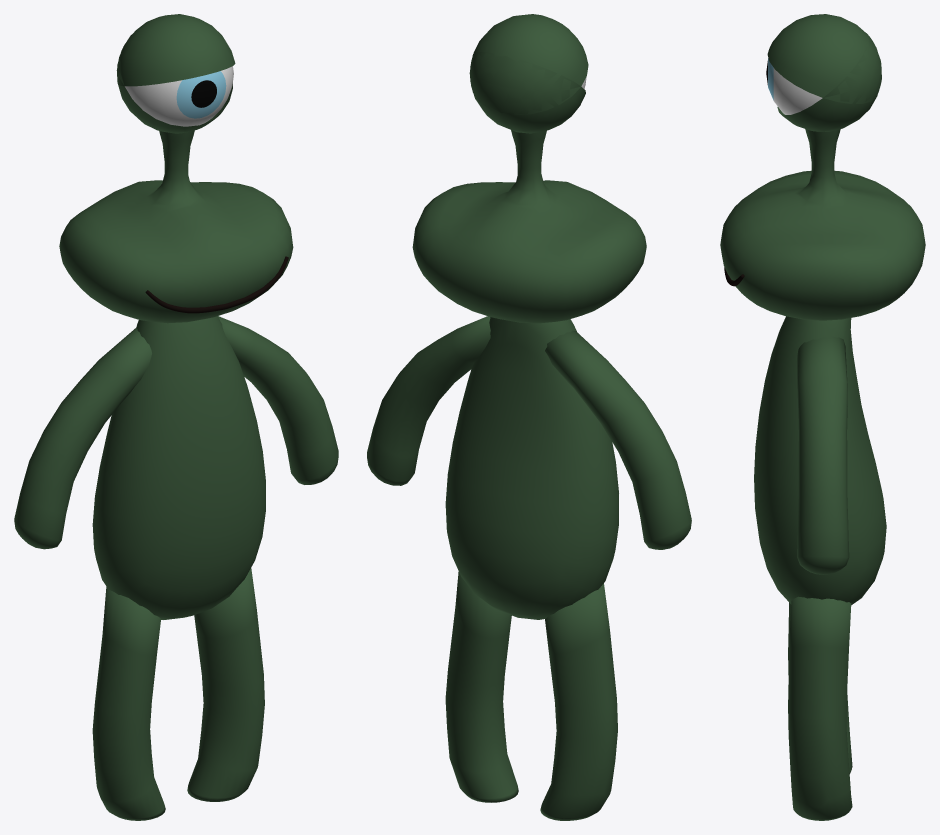
File: Player.fbx
3 renders of one model, left to right at view 1: azimuth 30°, elevation 25°; view 2: azimuth 150°, elevation 25°; view 3: azimuth 270°, elevation 25°, orthographic.
Parts seen in each view (by area): view 1: Body.001, Head.001, Cylinder, Cylinder.001, Eyelid top, Eye, Eyelid bottom, NurbsPath; view 2: Body.001, Head.001, Cylinder, Cylinder.001, Eyelid top, Eyelid bottom; view 3: Head.001, Body.001, Cylinder, Cylinder.001, Eyelid top, Eyelid bottom, Eye.
Boxes of the visible parts, x1,y1,x2,y2 form: Body.001: (92,316,265,619); Head.001: (59,130,293,323); Cylinder: (92,568,264,820); Cylinder.001: (14,316,338,549); Eyelid top: (116,14,235,86); Eye: (125,66,233,126); Eyelid bottom: (117,34,232,133); NurbsPath: (145,256,288,313); Body.001: (445,317,618,619); Head.001: (412,130,646,323); Cylinder: (445,571,617,820); Cylinder.001: (367,316,691,549); Eyelid top: (469,14,588,114); Eyelid bottom: (470,52,585,133); Head.001: (720,129,925,320); Body.001: (754,316,886,604); Cylinder: (788,596,852,820); Cylinder.001: (796,336,849,574); Eyelid top: (767,14,881,103); Eyelid bottom: (777,33,881,131); Eye: (766,58,822,114).
Bounding box in the file's own units: 84.59 × 199 × 47.94.
